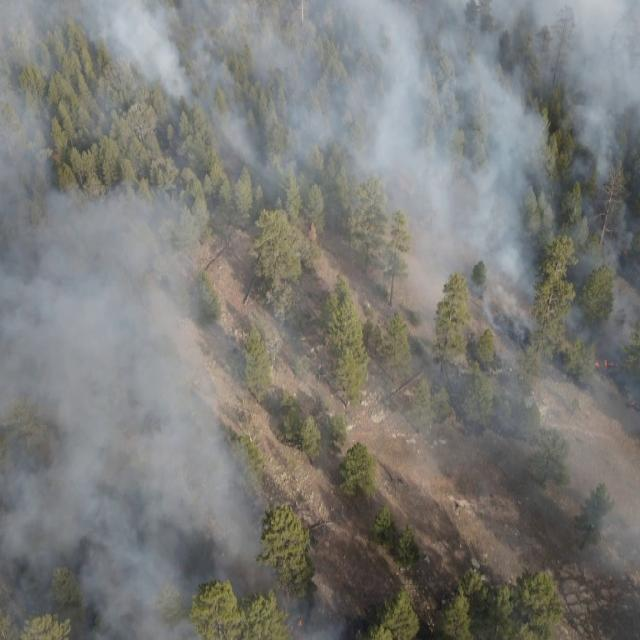fire: (588, 356, 634, 375), (295, 617, 308, 633)
smoke: (0, 1, 640, 280), (0, 276, 249, 640), (278, 276, 640, 434), (421, 436, 640, 570), (248, 475, 298, 640), (285, 594, 355, 640)
